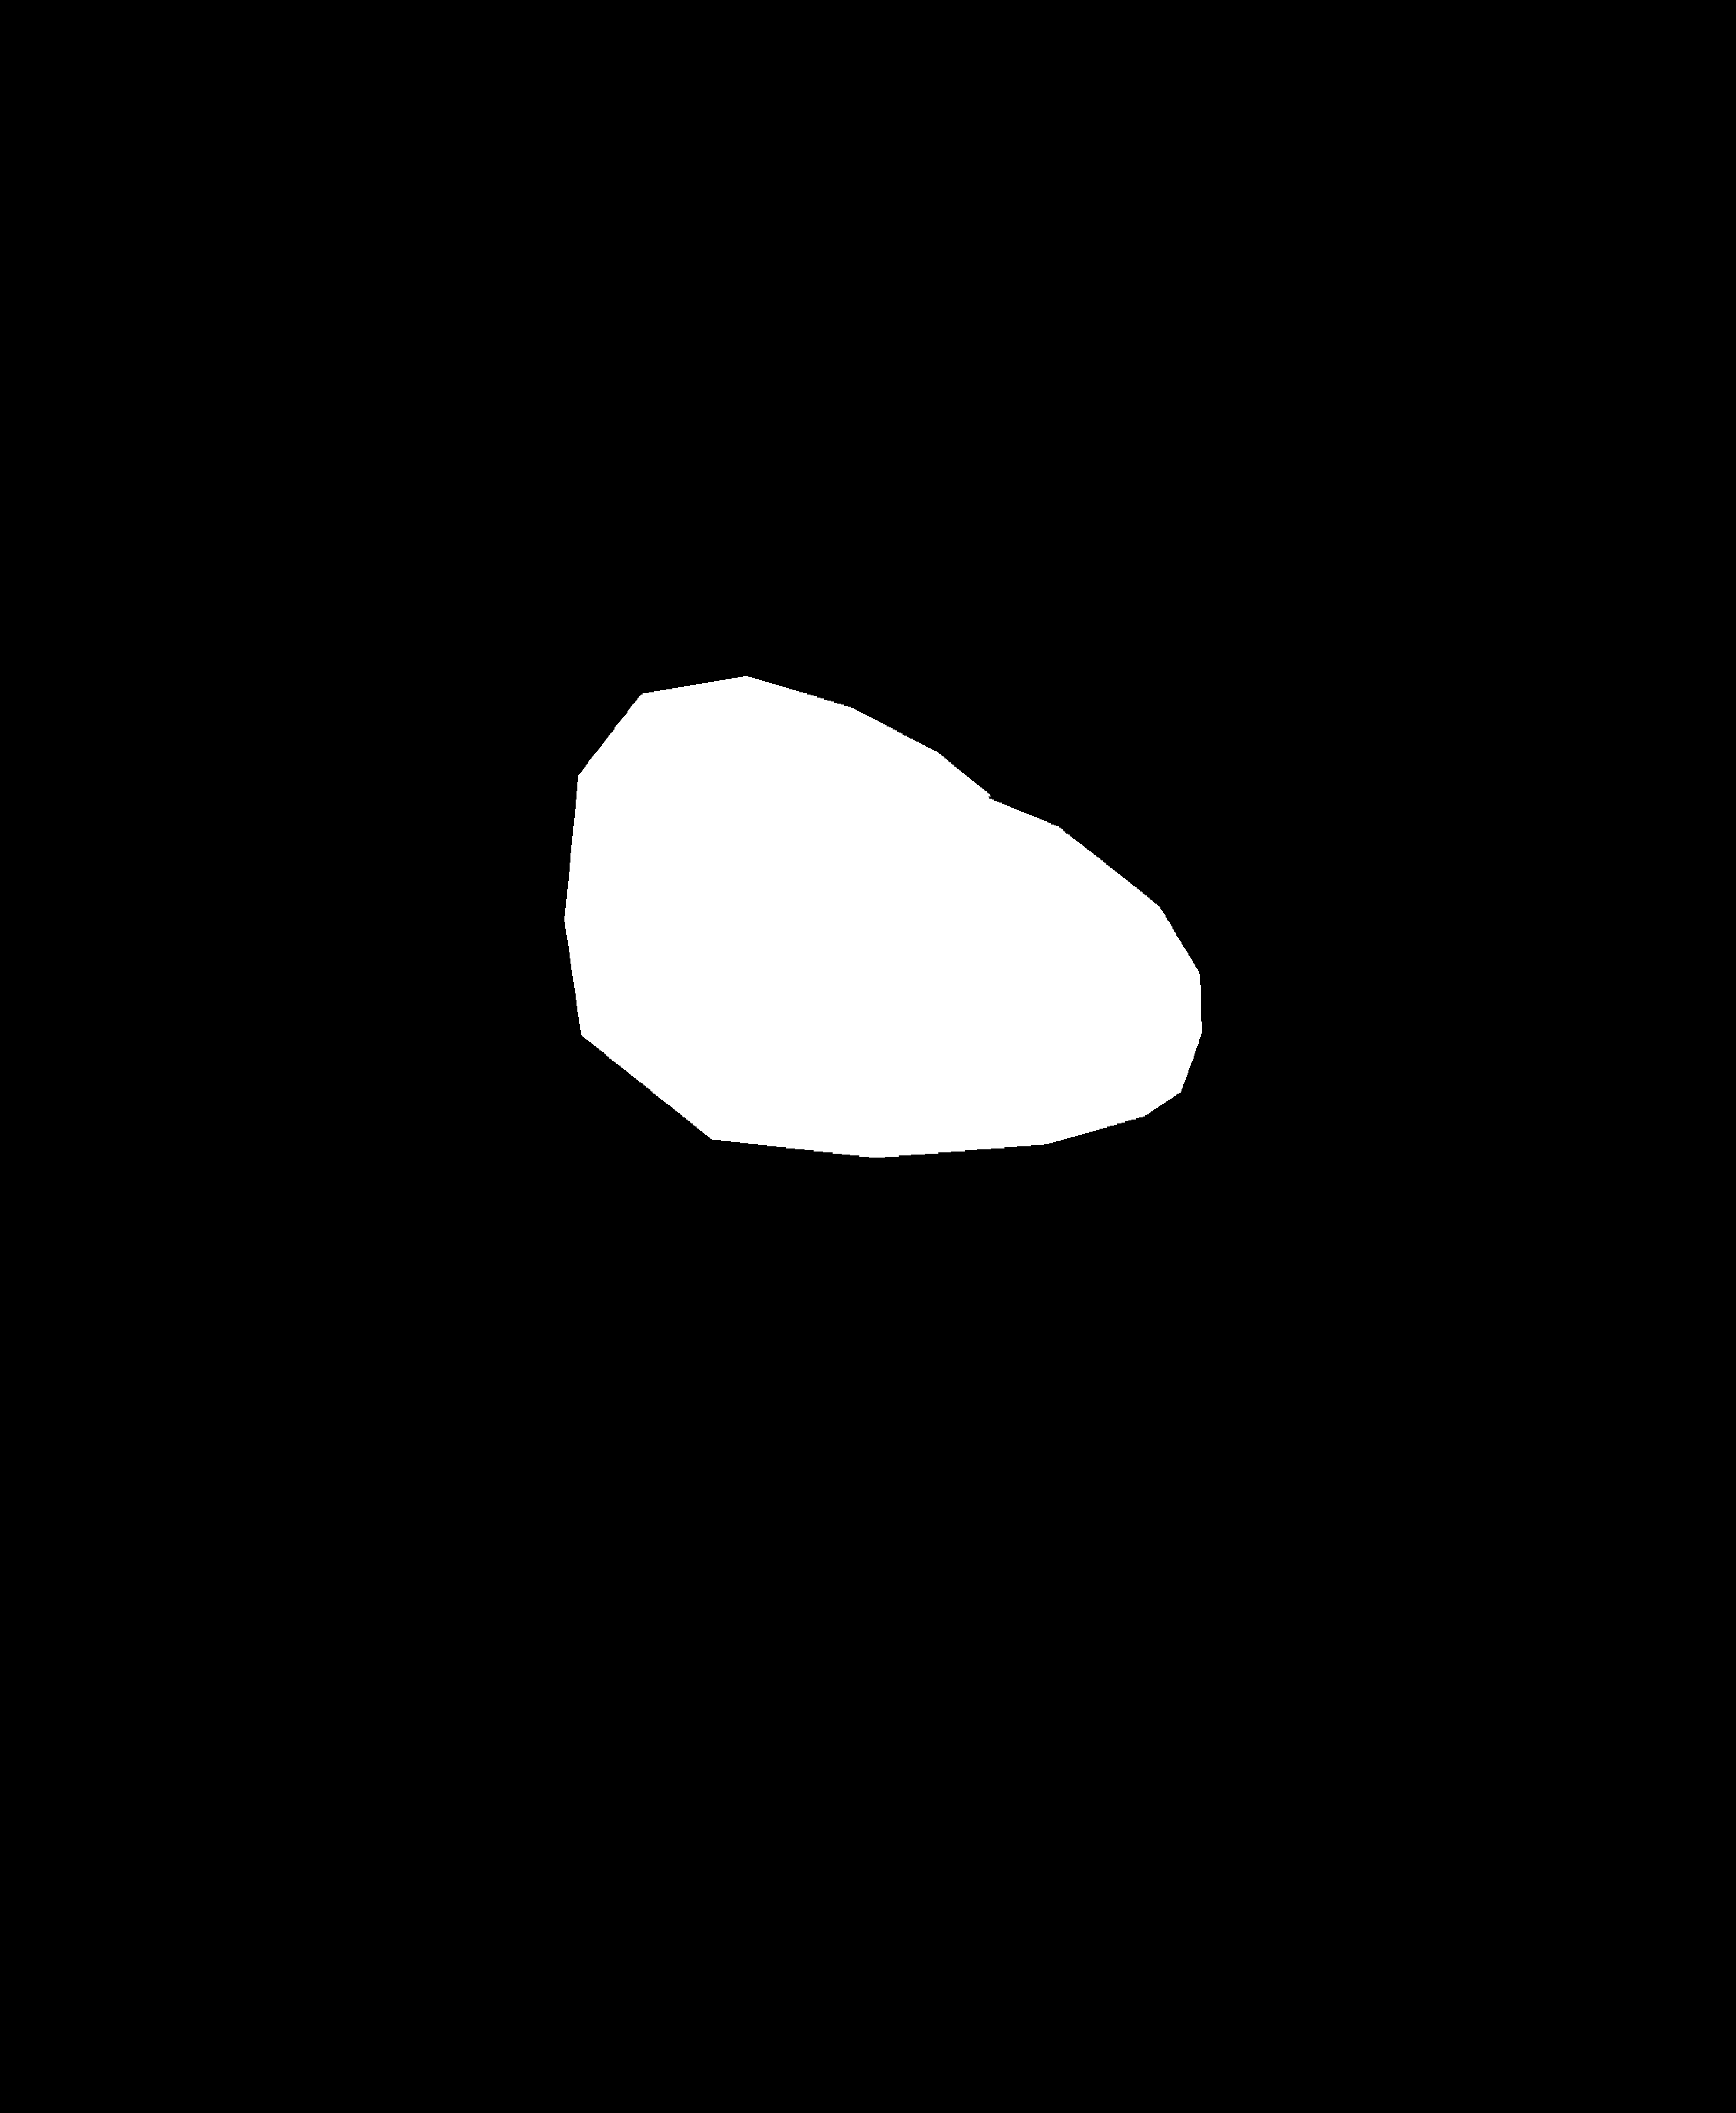heart: (548, 755, 1252, 1144)
left_lung: (163, 147, 658, 1248)
right_lung: (818, 128, 1406, 1228)
